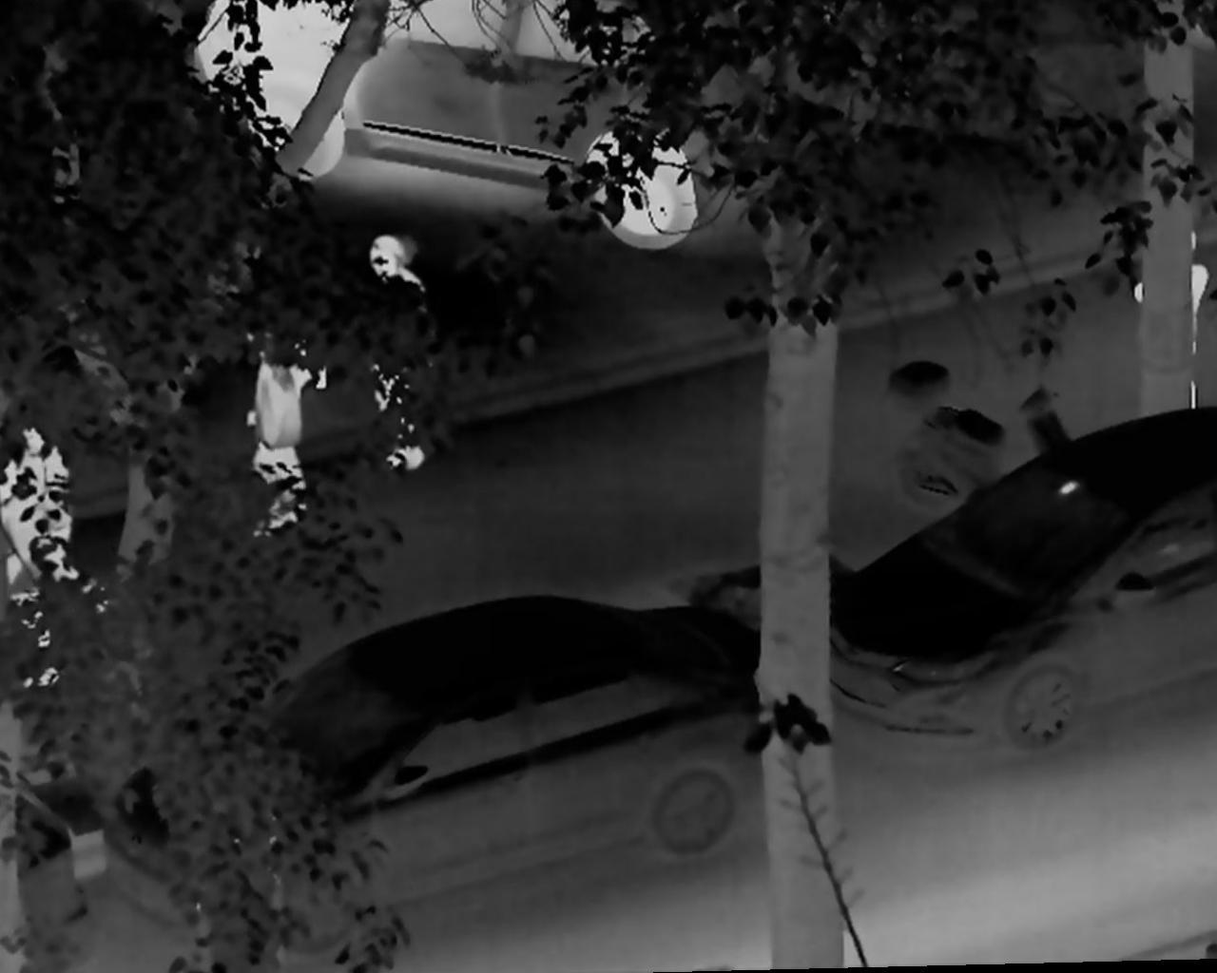person: (348, 231, 437, 482), (233, 305, 309, 538), (1132, 215, 1208, 418)
